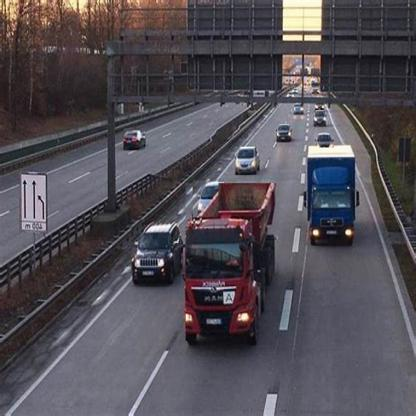car: (132, 221, 182, 289), (193, 180, 220, 219), (235, 148, 263, 177), (124, 129, 146, 152), (278, 125, 294, 144), (314, 111, 329, 127), (318, 135, 335, 149), (295, 106, 307, 116)
truck: (186, 184, 280, 343), (306, 146, 357, 248), (312, 83, 321, 94)
